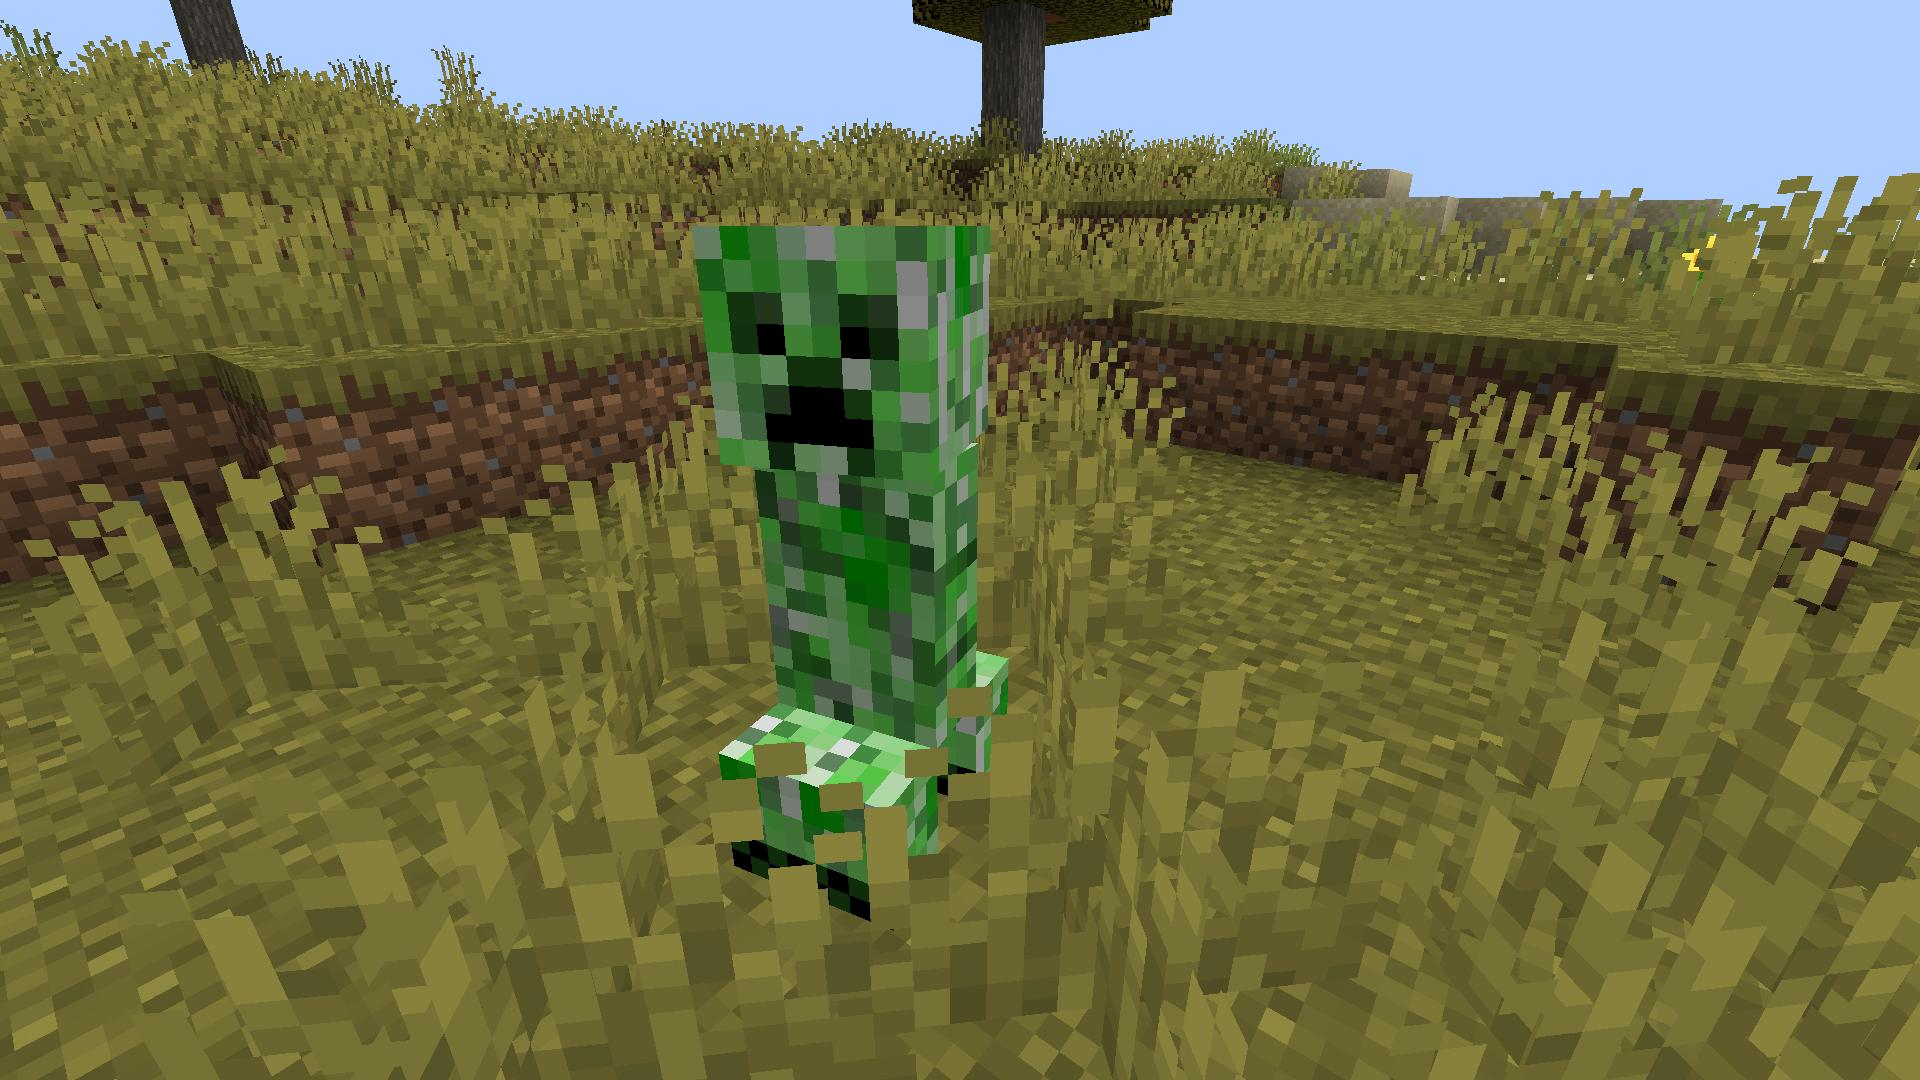creeper: (678, 212, 1021, 927)
